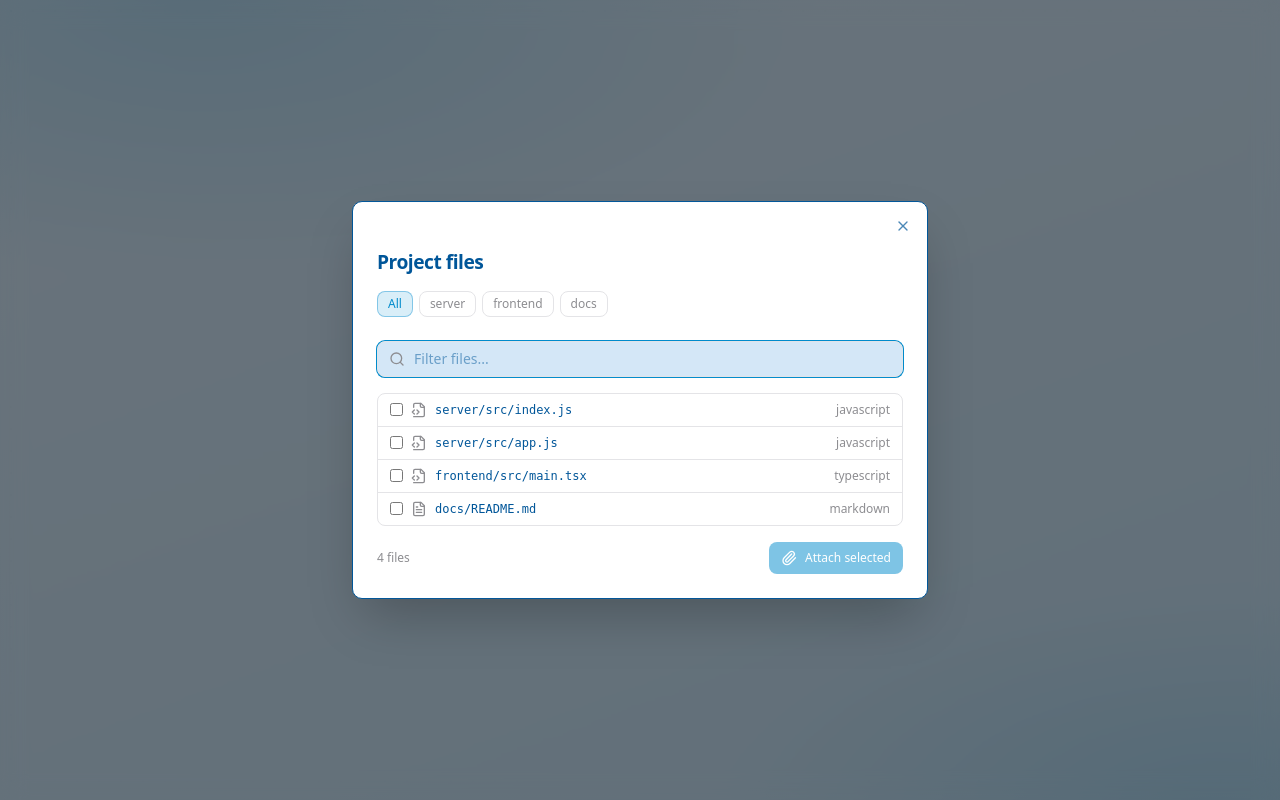
Scenario: BrowseDialog — dir chips (ТЗ attach-files-for-project-mode §3.2) › clicking "All" resets filter (shows all files)
Select server
Click the button "server" at (448, 304), box [419, 291, 476, 317]
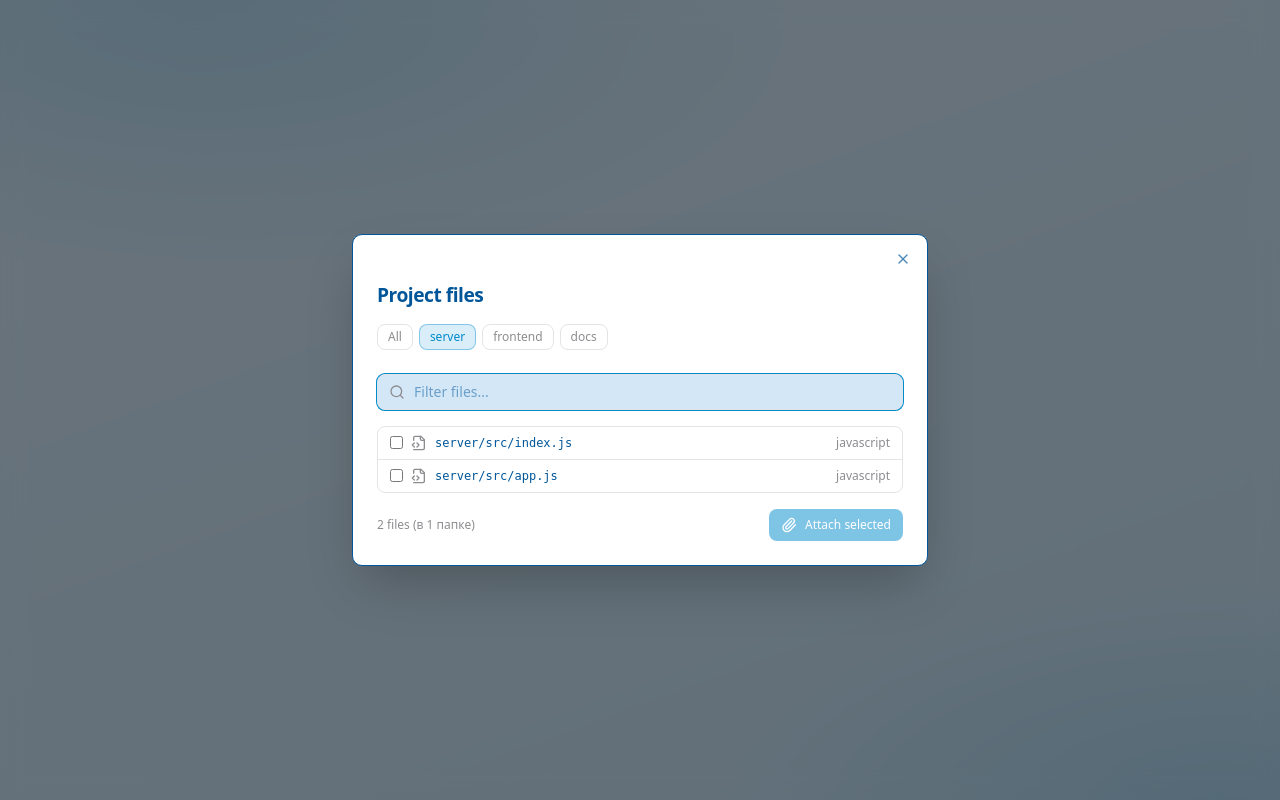
Check: the text "frontend/src/main.tsx" is gone
Click "All"
Click the button "All" at (395, 337), box [377, 324, 413, 350]
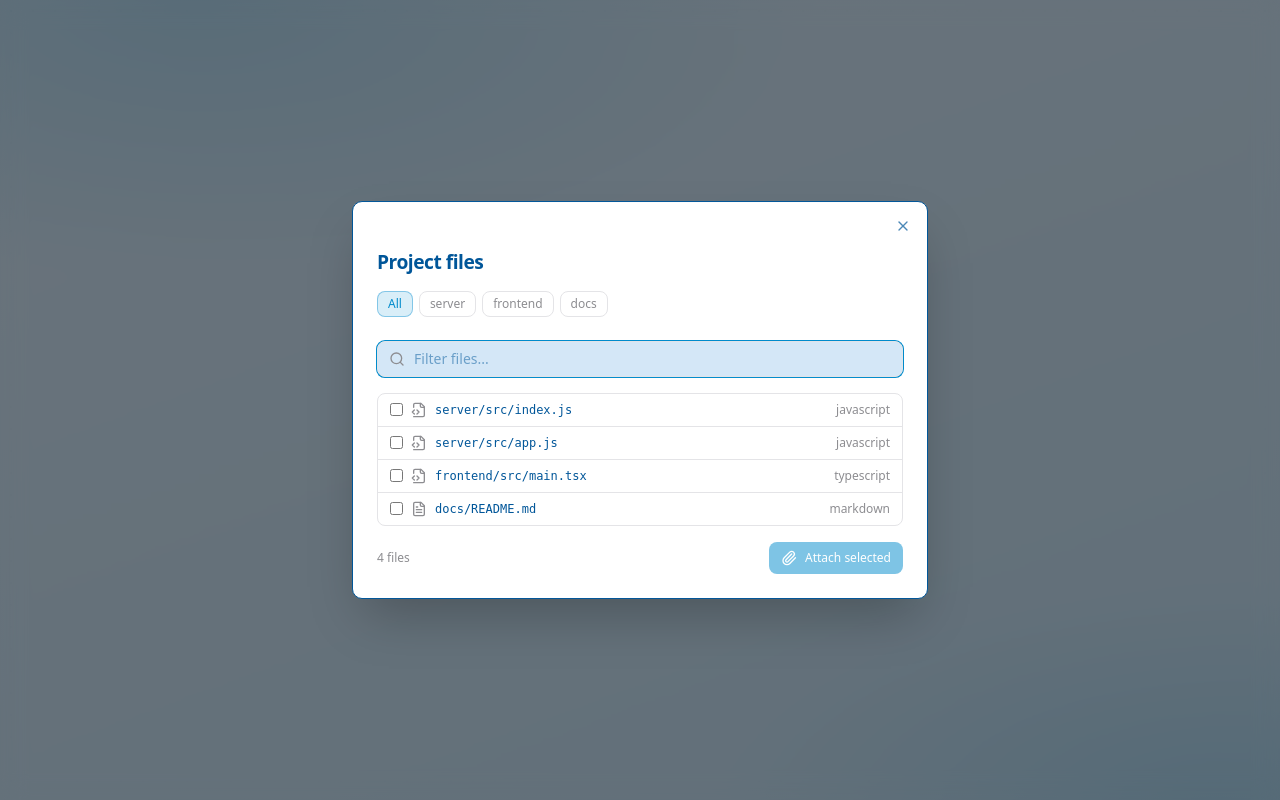
Check: the text "frontend/src/main.tsx" is shown, box [435, 469, 587, 483]
Check: the text "docs/README.md" is shown, box [435, 502, 536, 516]
